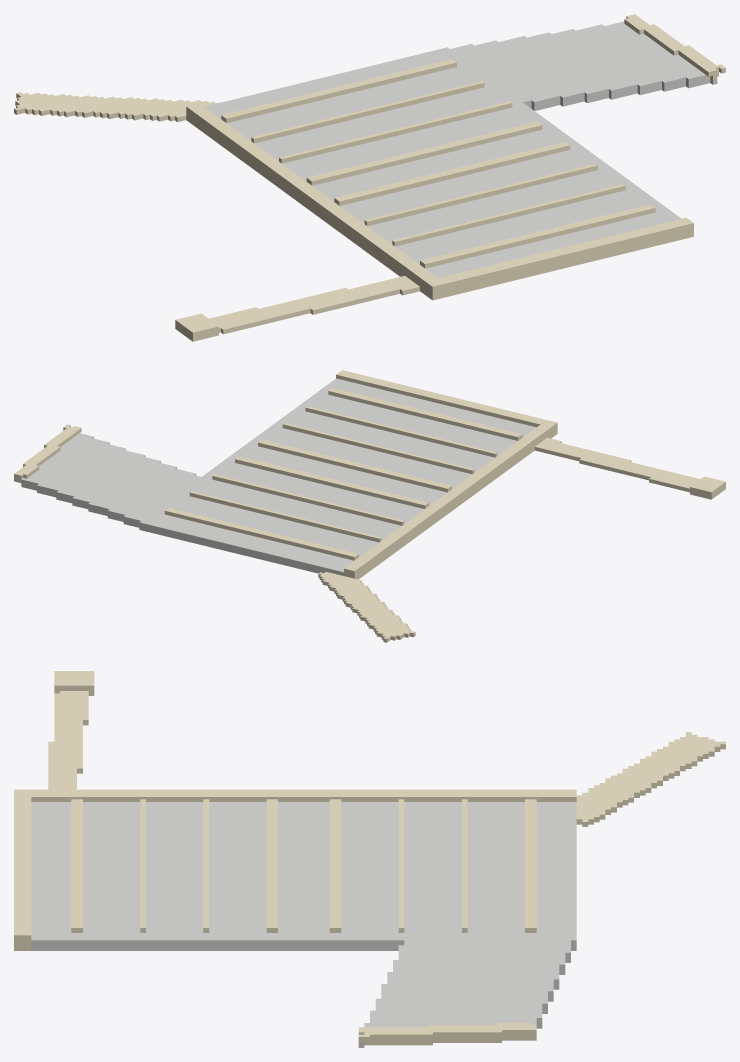
File: plastron_cotton.glb
The picture shows the model from 3 angles, top to bottom: view 1: azimuth 30°, elevation 25°; view 2: azimuth 150°, elevation 25°; view 3: azimuth 270°, elevation 25°; orthographic projection. The views are drawn at different scales.
Visible parts, largest first — view 1: plastron_cotton:compound; view 2: plastron_cotton:compound; view 3: plastron_cotton:compound.
Boxes of the visible parts, left/top/right/bottom form: plastron_cotton:compound: left=14, top=14, right=725, bottom=341; plastron_cotton:compound: left=14, top=370, right=725, bottom=642; plastron_cotton:compound: left=14, top=671, right=725, bottom=1047.
Size of the model in its own units: 0.612 by 0.012 by 0.496.
